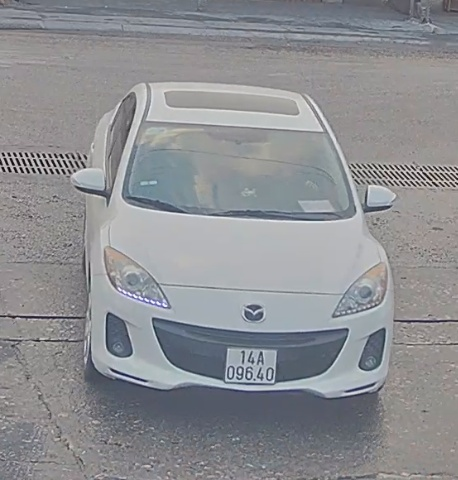vehicle plate: (219, 342, 288, 394)
